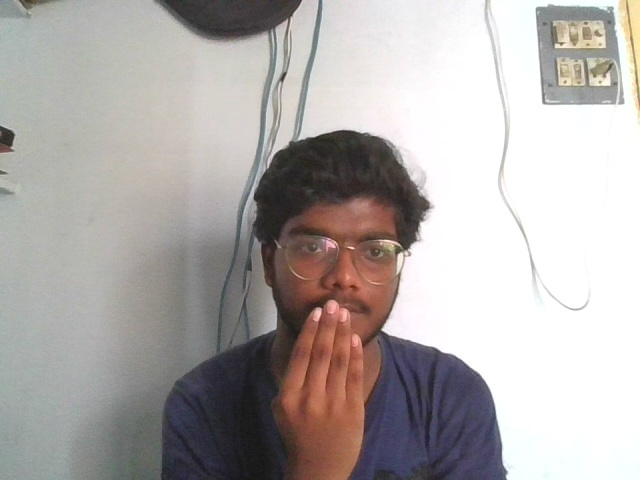Thanks: (267, 297, 368, 459)
